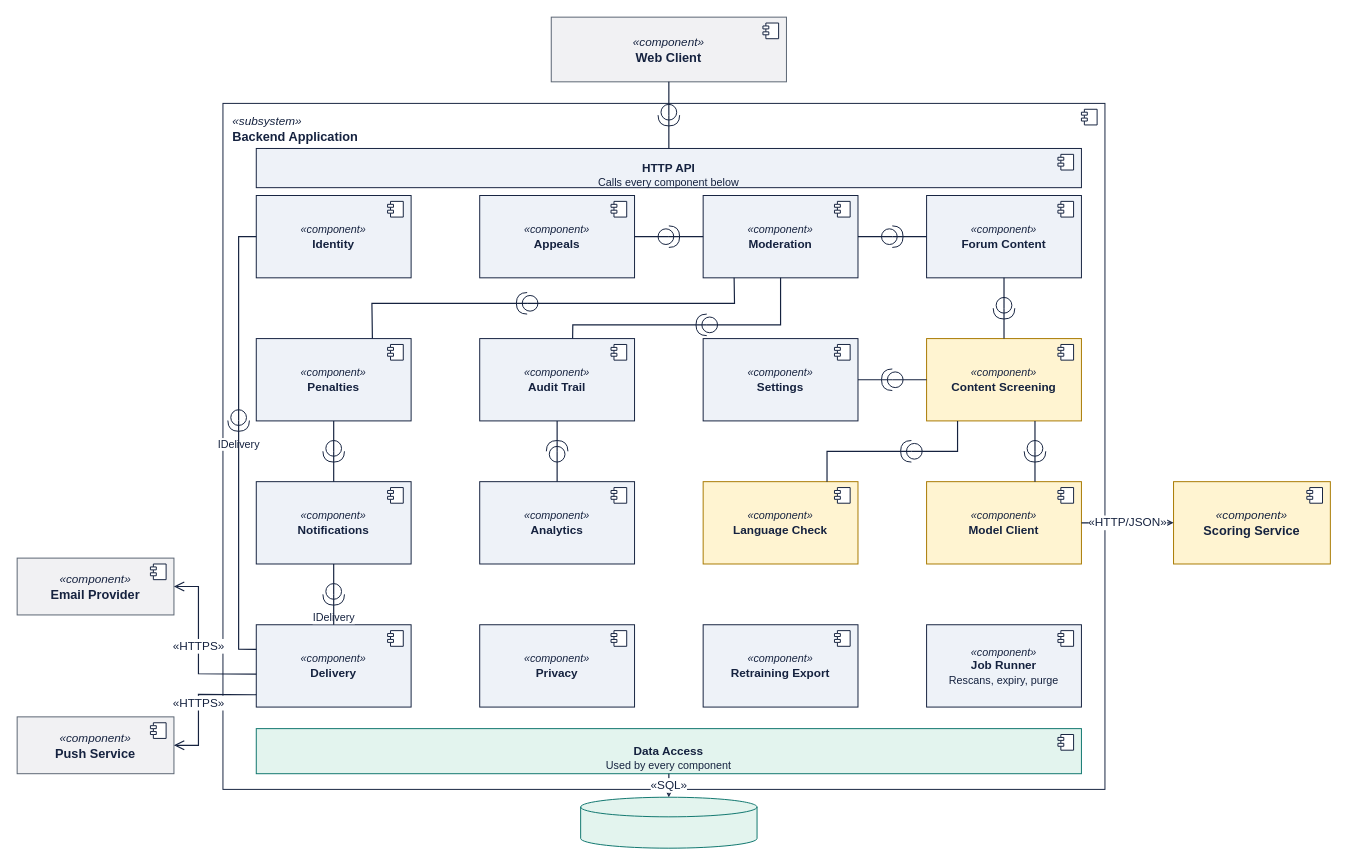
The diagram is 1348 pixels wide and 865 high, and some of its shapes have lost their labels. Here are the shapes that lost their labels. From the top down, the centre of each, then its label:
At point (668, 114): "IForumAPI".
At point (668, 236): "IModeration".
At point (892, 236): "IContent".
At point (526, 303): "IPenalty".
At point (1003, 307): "IScreening".
At point (706, 324): "IAudit".
At point (892, 379): "ISettings".
At point (333, 451): "INotify".
At point (556, 451): "IAuditRead".
At point (911, 451): "ILanguage".
At point (1034, 451): "IScoring".
At point (668, 822): "Forum Database".
